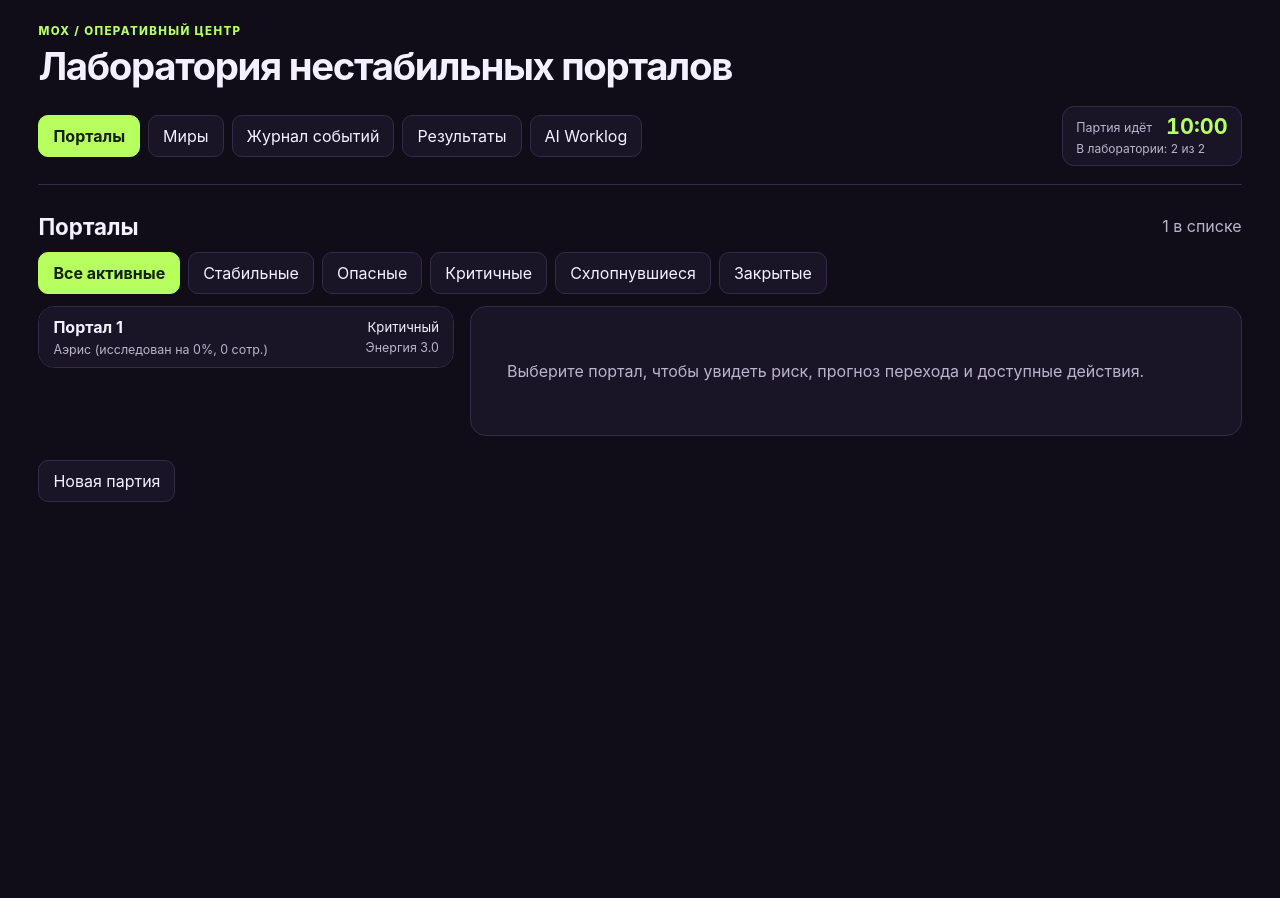
App › после загрузки старой партии возвращает автоматически закрытый портал в список
Click the button "Портал 1" at point(88, 327), box [39,307,453,367]
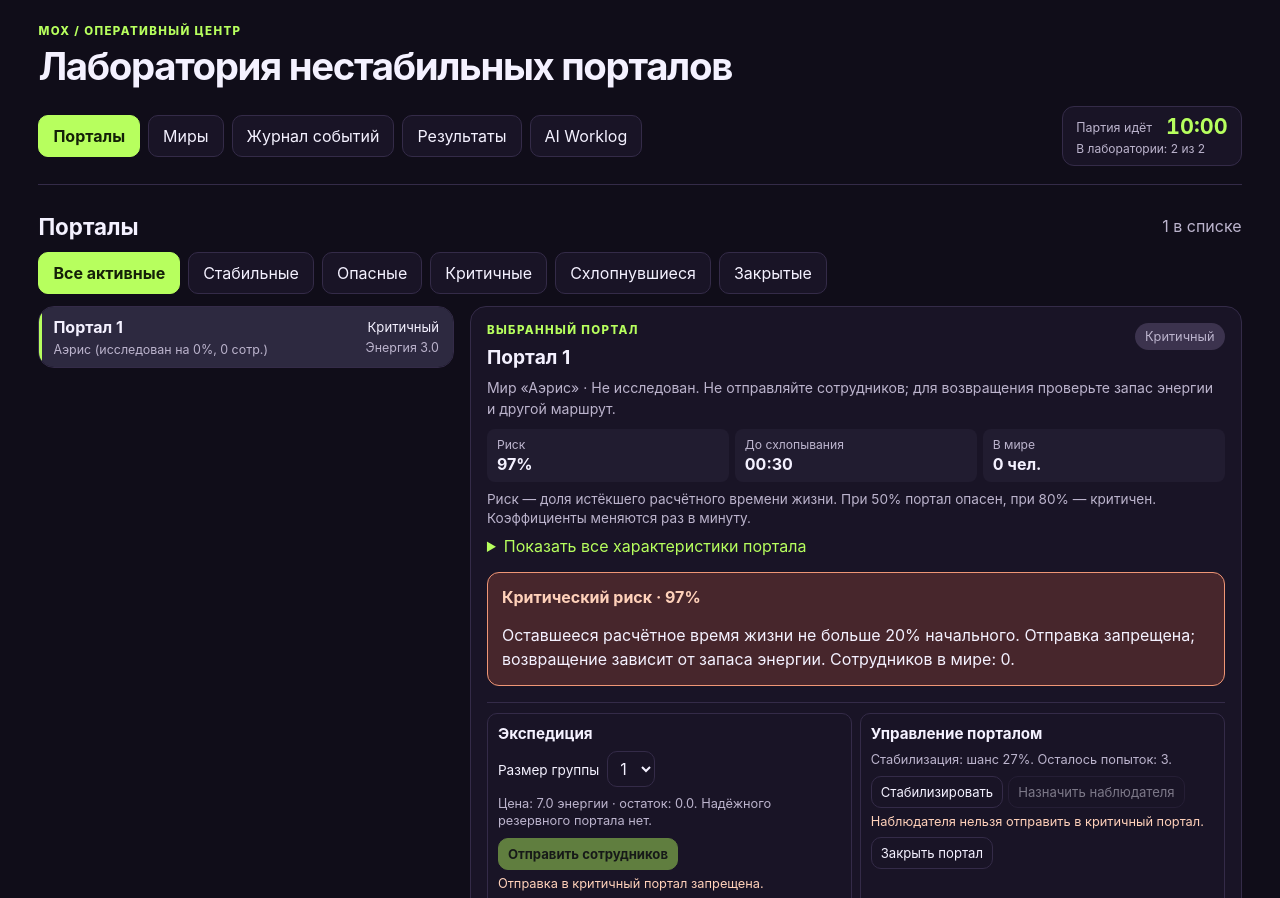
Expected: the button "Закрыть портал" is enabled, [871,837,993,869]
